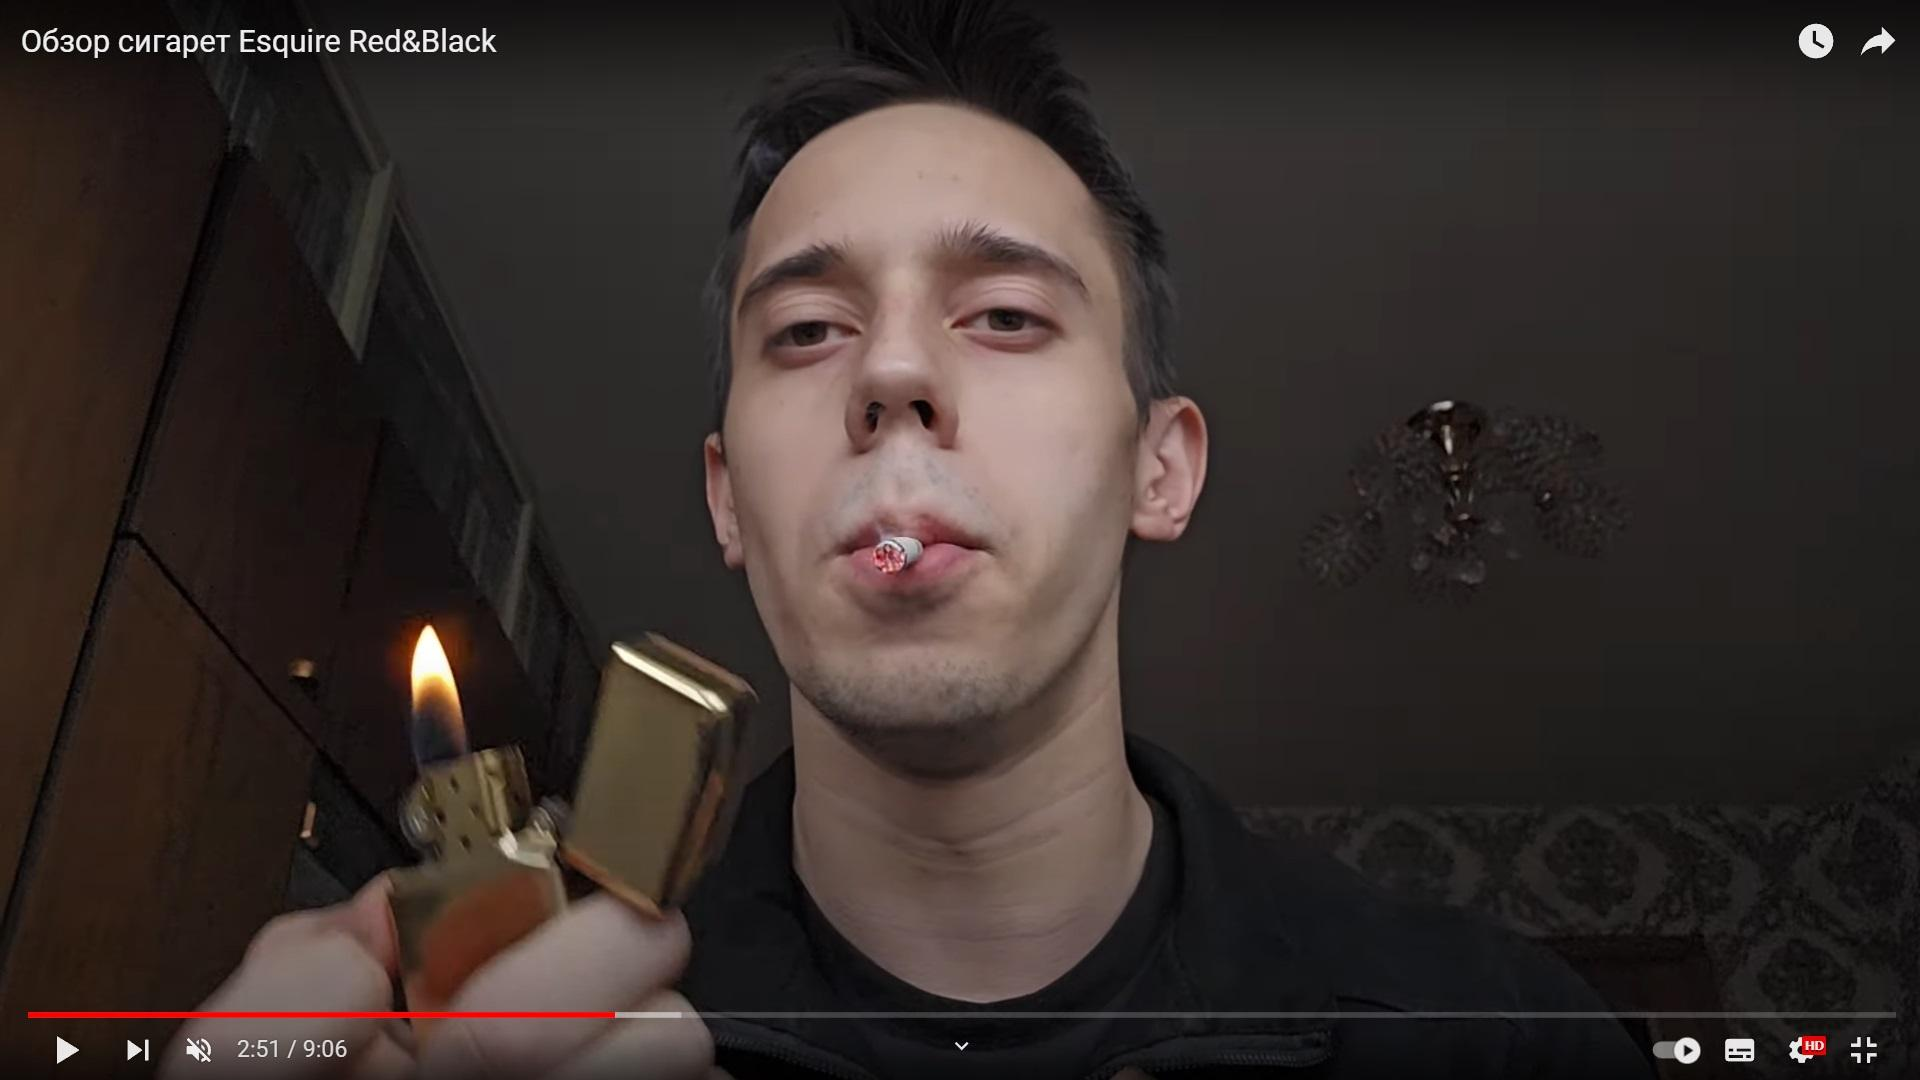cigarette: (873, 537, 924, 575)
